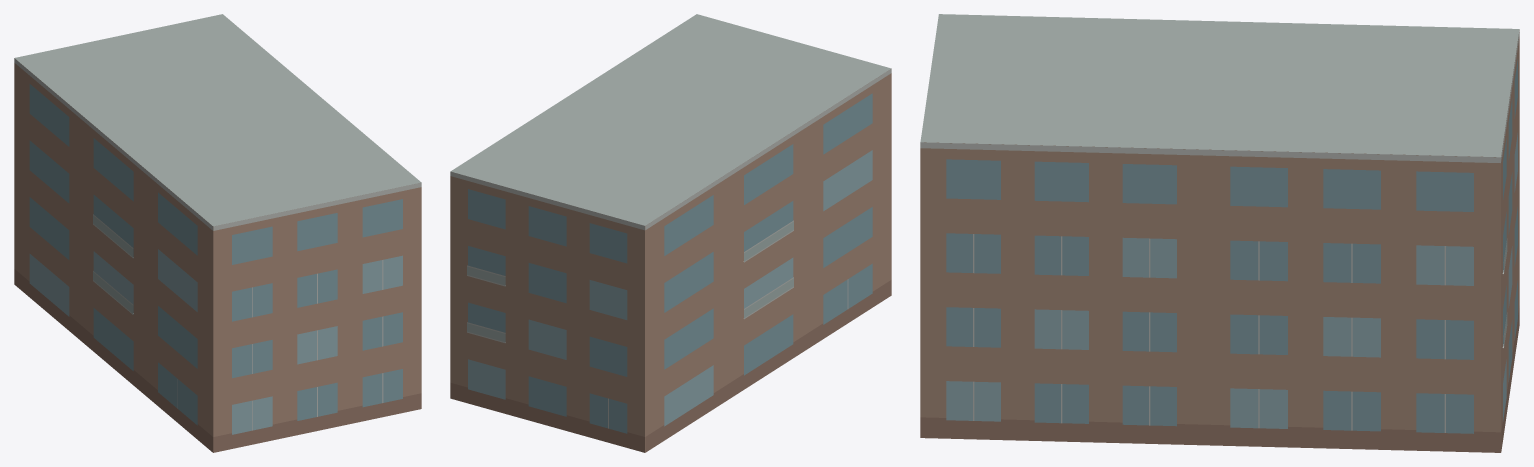
File: residential-b6bd8ada-f321-46df-9f14-14146faae0a3.glb
3 renders of one model, left to right at view 1: azimuth 30°, elevation 25°; view 2: azimuth 150°, elevation 25°; view 3: azimuth 270°, elevation 25°, orthographic. The views are drawn at different scales.
Visible parts, largest first — view 1: residential-b6bd8ada-f321-46df-9f14-14146faae0a3.tmp; view 2: residential-b6bd8ada-f321-46df-9f14-14146faae0a3.tmp; view 3: residential-b6bd8ada-f321-46df-9f14-14146faae0a3.tmp.
Boxes of the visible parts, x1,y1,x2,y2 form: residential-b6bd8ada-f321-46df-9f14-14146faae0a3.tmp: (14, 14, 421, 452); residential-b6bd8ada-f321-46df-9f14-14146faae0a3.tmp: (450, 14, 891, 452); residential-b6bd8ada-f321-46df-9f14-14146faae0a3.tmp: (920, 14, 1519, 452).
Bounding box in the file's own units: 12.69 × 12.2 × 22.42.
